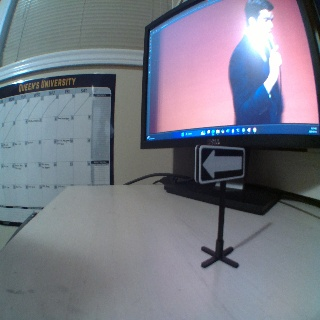sign_oneway_left: (194, 144, 244, 182)
